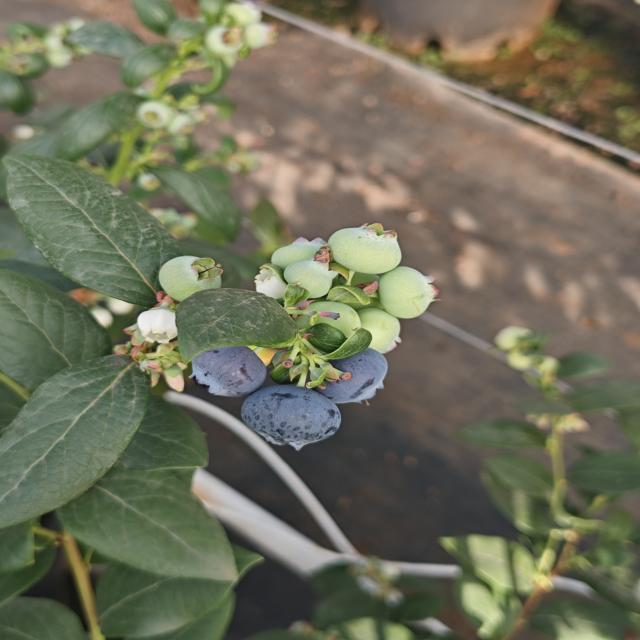ripe: (238, 383, 344, 452), (187, 344, 268, 399), (314, 352, 393, 401)
